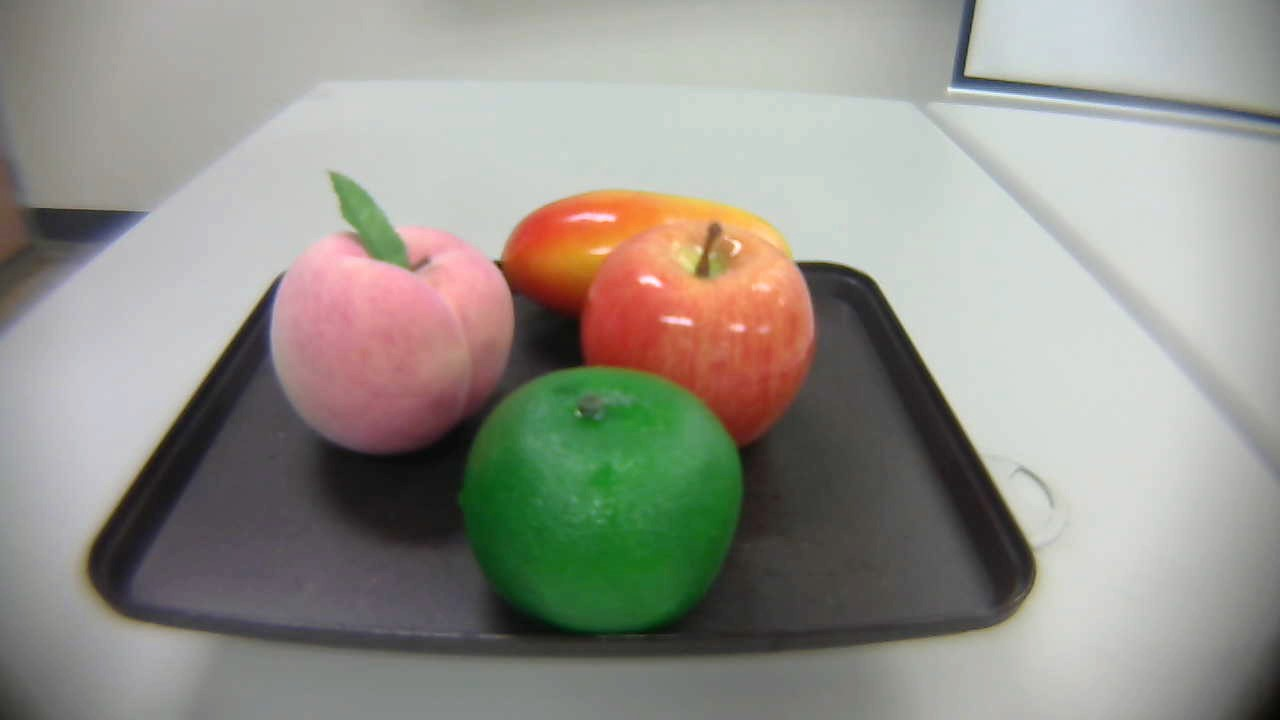green orange: (455, 366, 745, 634)
peach: (267, 174, 537, 459)
red apple: (575, 214, 820, 466)
red mango: (488, 179, 803, 324)
